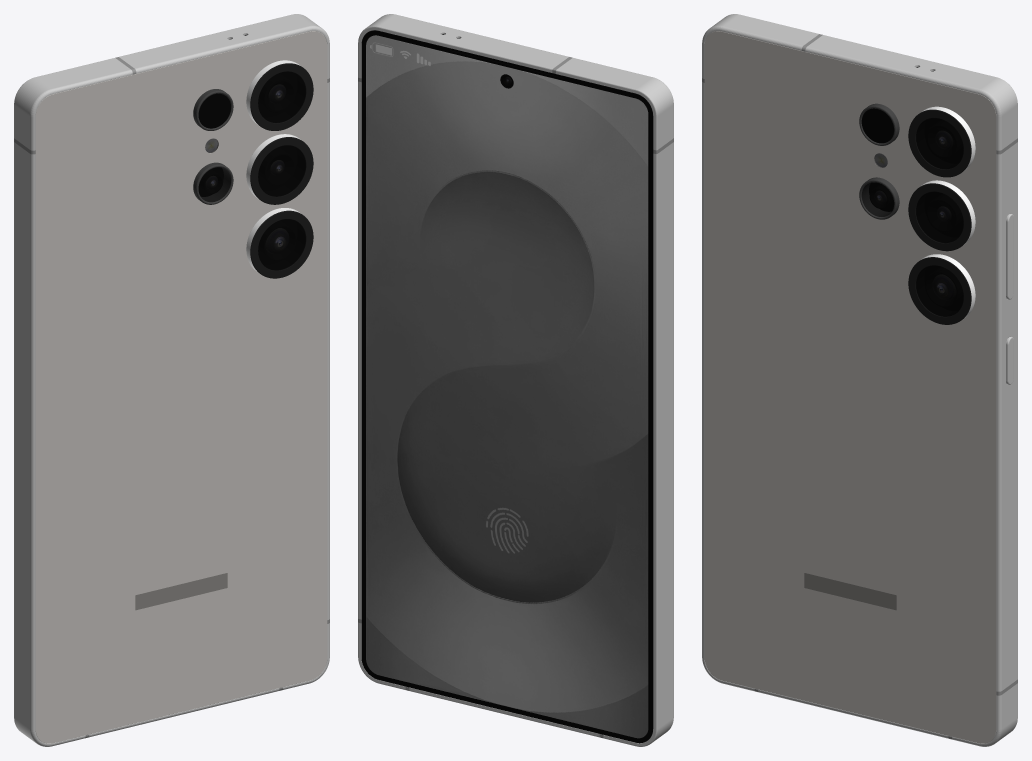
Rendered from Samsung S25 Ultra.glb.
3 views of the same model, side by side, from view 1: azimuth 30°, elevation 25°; view 2: azimuth 150°, elevation 25°; view 3: azimuth 330°, elevation 25° (orthographic).
Parts seen in each view (by area): view 1: object_4, object_22, object_26, object_21, object_46, object_45, object_44, object_25, Object001, Object003, Object002, Plane008 (+10 smaller); view 2: object_38, object_22, object_048, object_26, object_21, object_25, object_23; view 3: object_4, object_25, object_26, object_21, object_22, object_44, object_45, object_46, Object001, Object002, Object003, Plane008 (+12 smaller).
Part boxes in pixels (x1,y1,x2,y2): object_4: [35, 31, 327, 743]; object_22: [14, 142, 85, 746]; object_26: [119, 14, 329, 78]; object_21: [14, 58, 132, 150]; object_46: [258, 71, 305, 122]; object_45: [258, 219, 305, 270]; object_44: [258, 145, 305, 196]; object_25: [327, 82, 329, 619]; Object001: [250, 210, 313, 278]; Object003: [250, 63, 313, 130]; Object002: [250, 137, 313, 204]; Plane008: [135, 573, 227, 610]; object_38: [366, 35, 648, 738]; object_22: [603, 142, 673, 746]; object_048: [361, 30, 653, 743]; object_26: [358, 14, 568, 78]; object_21: [556, 58, 673, 150]; object_25: [358, 81, 361, 619]; object_23: [409, 687, 599, 737]; object_4: [704, 31, 996, 743]; object_25: [996, 142, 1017, 691]; object_26: [805, 35, 1017, 150]; object_21: [702, 14, 818, 78]; object_22: [702, 82, 754, 691]; object_44: [916, 191, 963, 243]; object_45: [916, 265, 963, 316]; object_46: [916, 118, 963, 169]; Object001: [908, 257, 971, 324]; Object002: [908, 183, 971, 251]; Object003: [908, 109, 971, 177]; Plane008: [804, 573, 896, 610].
Size of the model in its own units: 0.7817 by 1.63 by 0.1079.
23 materials, 4 textured.
